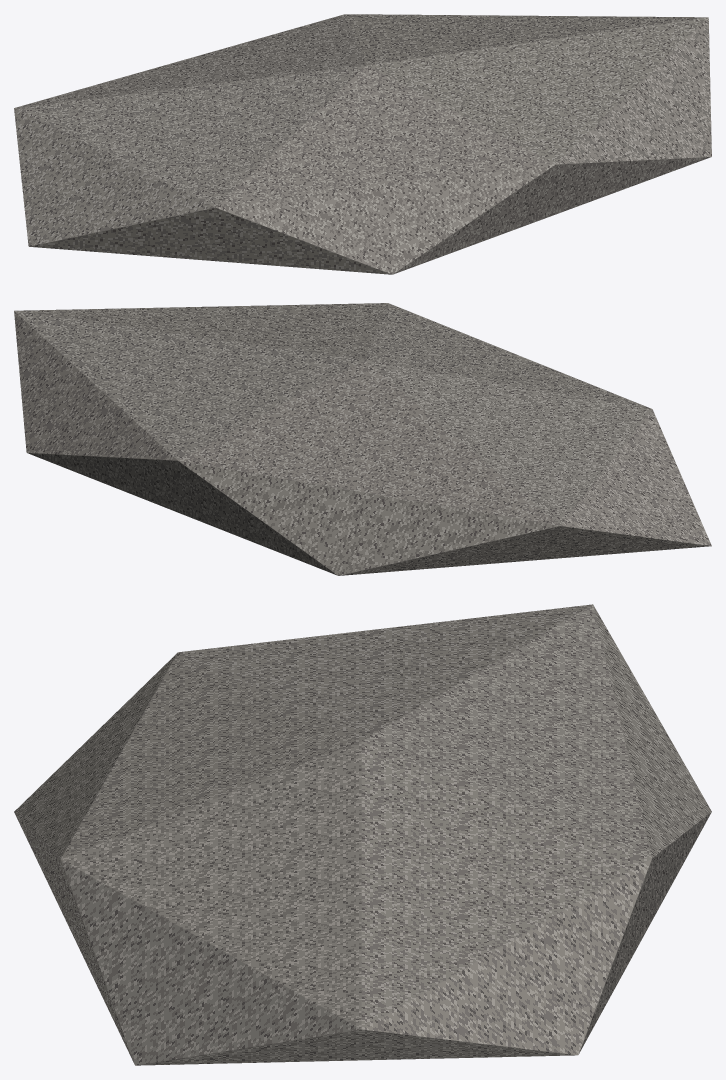
Rendered from rock_slab.glb.
3 views of the same model, one above another, from view 1: azimuth 30°, elevation 25°; view 2: azimuth 150°, elevation 25°; view 3: azimuth 270°, elevation 25° (orthographic). The views are drawn at different scales.
Parts seen in each view (by area): view 1: Body.013; view 2: Body.013; view 3: Body.013.
Part boxes in pixels (box(x1,y1,x2,y2)): Body.013: box(14, 14, 711, 274); Body.013: box(14, 303, 711, 575); Body.013: box(14, 604, 711, 1065).
Size of the model in its own units: 3.22 by 0.6147 by 2.01.
1 material, 1 textured.
